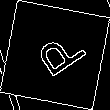P_SW: (24, 26, 86, 84)
